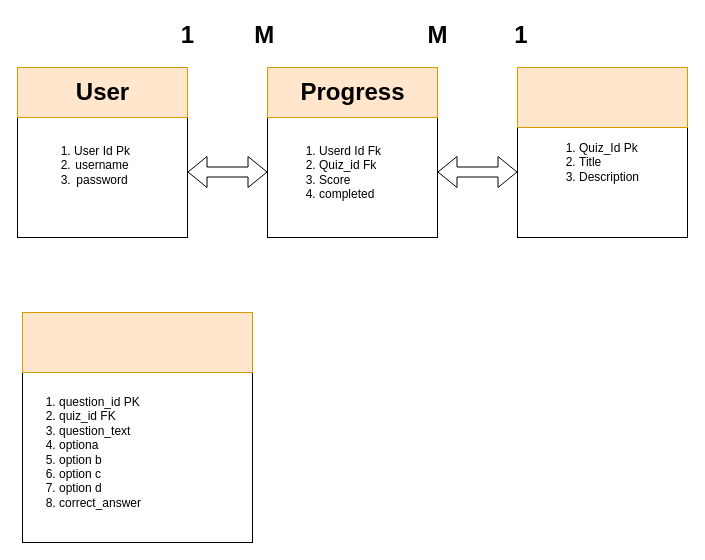
The diagram is 705 pixels wide and 560 high, and some of its shapes have lost their labels. The shapes that lost their labels are listed below. From the top down, each one's box as (x1, y1, x2, y2) in pixels, then its label:
(516, 66, 688, 128): Quizzes
(22, 312, 252, 372): Questions
